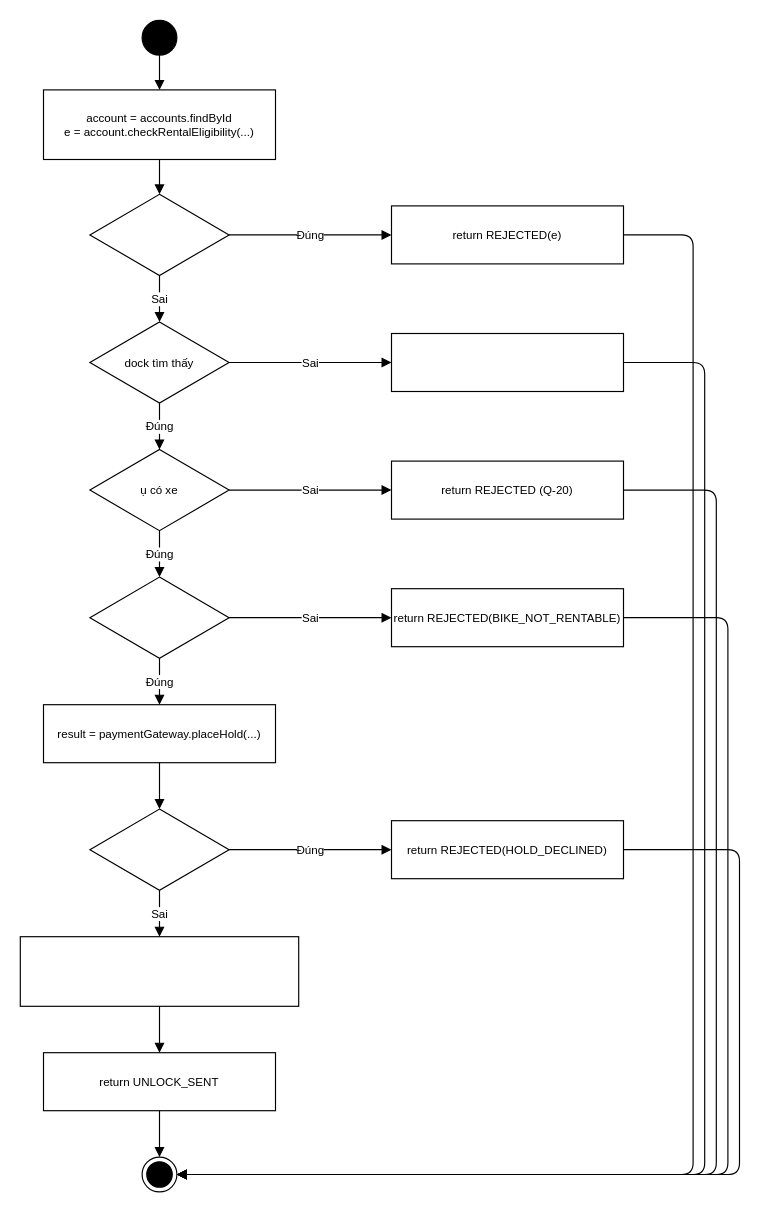
This 769x1212 diagram has some shape labels left out. Each missing label, with the centre of its shape:
"bike.isRentable()" goes at point (159, 617).
"e != ELIGIBLE" goes at point (159, 234).
"ghi PaymentHold, RentalRequest; sendUnlockCommand; schedule(REMOVAL_TIMEOUT)" goes at point (159, 971).
"result = Declined" goes at point (159, 849).
"throw UnknownDockException" goes at point (507, 362).
